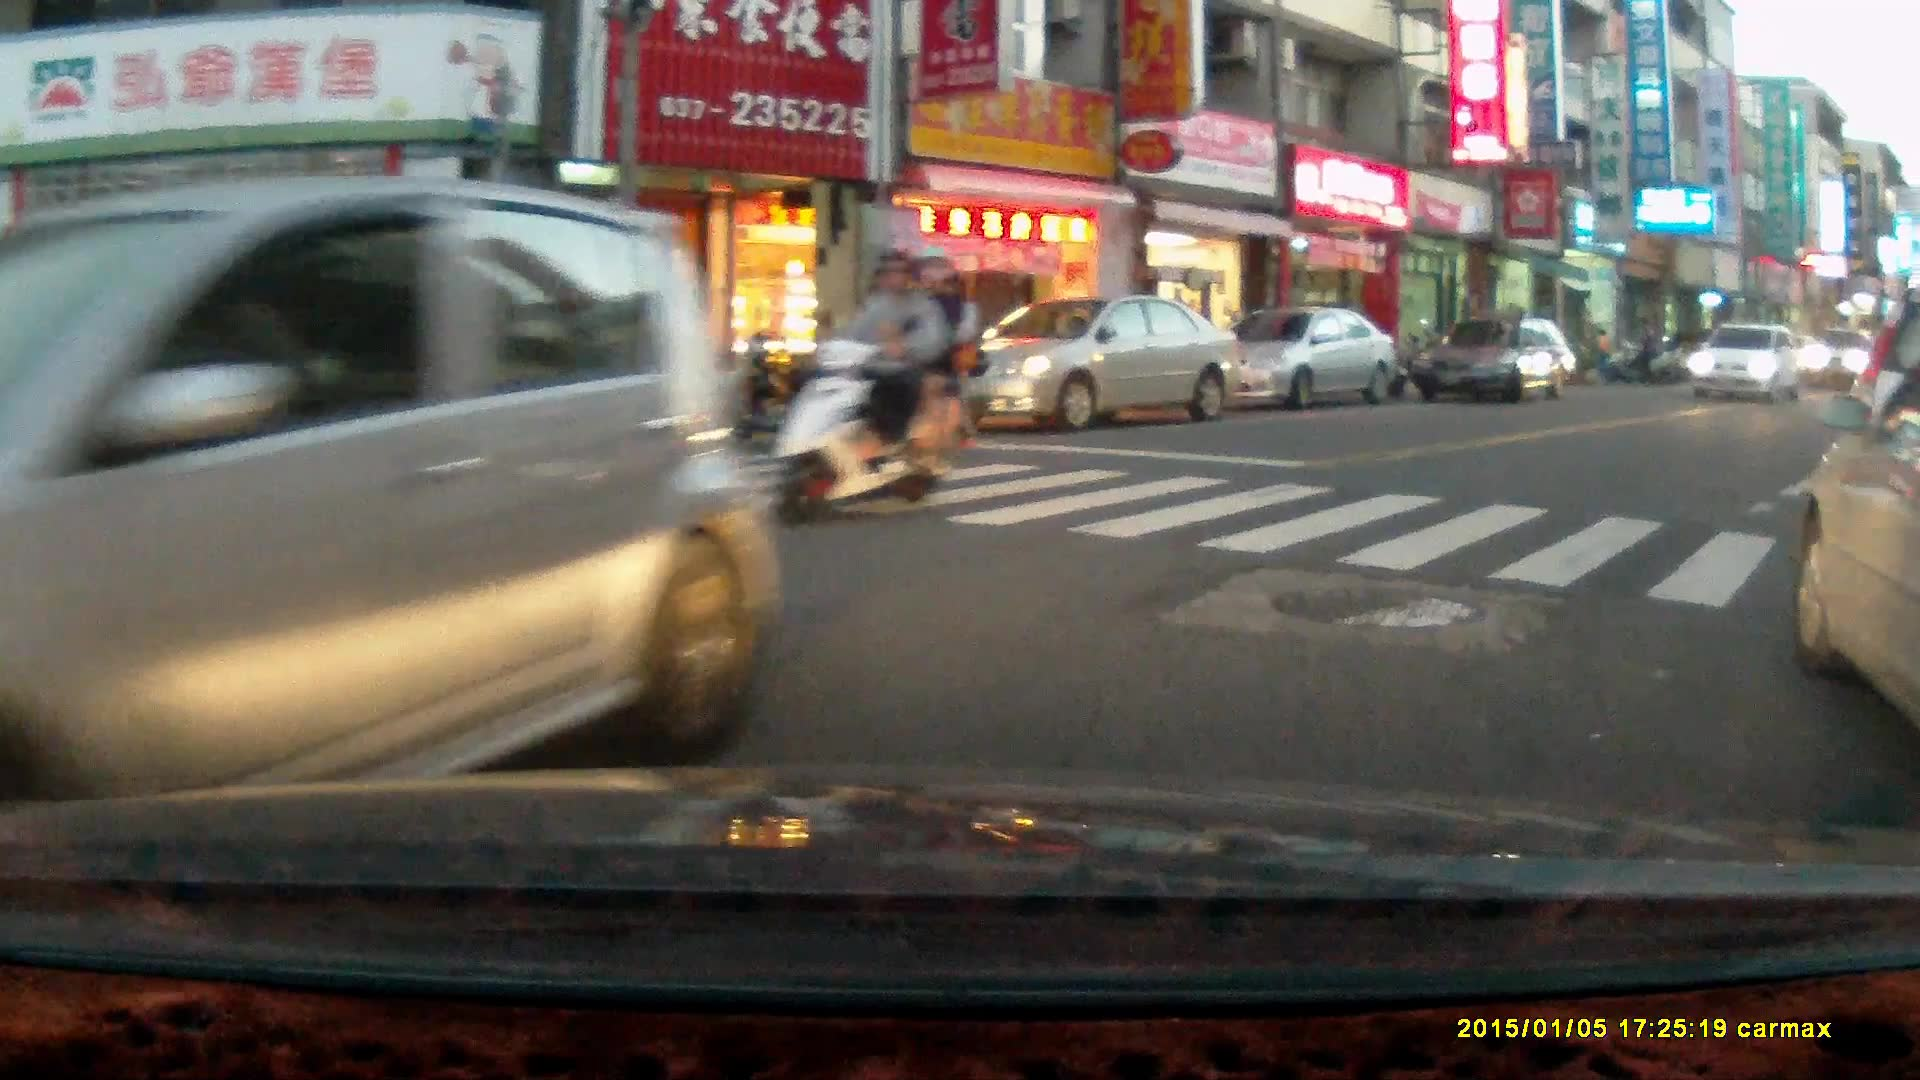rider: (768, 240, 960, 527)
vehicle: (1, 168, 790, 825), (1788, 358, 1920, 729), (936, 292, 1249, 428), (1837, 292, 1920, 565), (1205, 307, 1402, 407), (1414, 314, 1579, 410), (1688, 322, 1809, 400)
